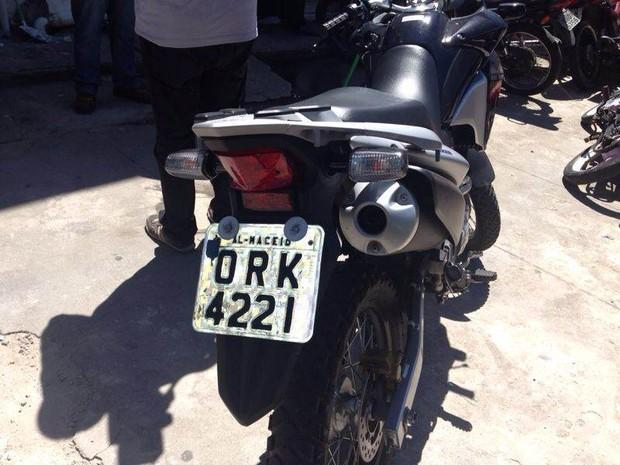placa de veiculo: (174, 211, 331, 344)
